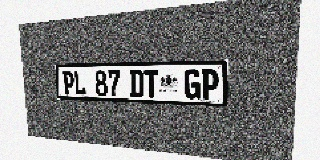7: (107, 70, 121, 97)
8: (94, 70, 108, 96)
D: (130, 70, 144, 97)
G: (184, 69, 201, 99)
L: (74, 71, 86, 95)
P: (201, 69, 219, 100), (62, 71, 75, 95)
T: (144, 70, 159, 98)
